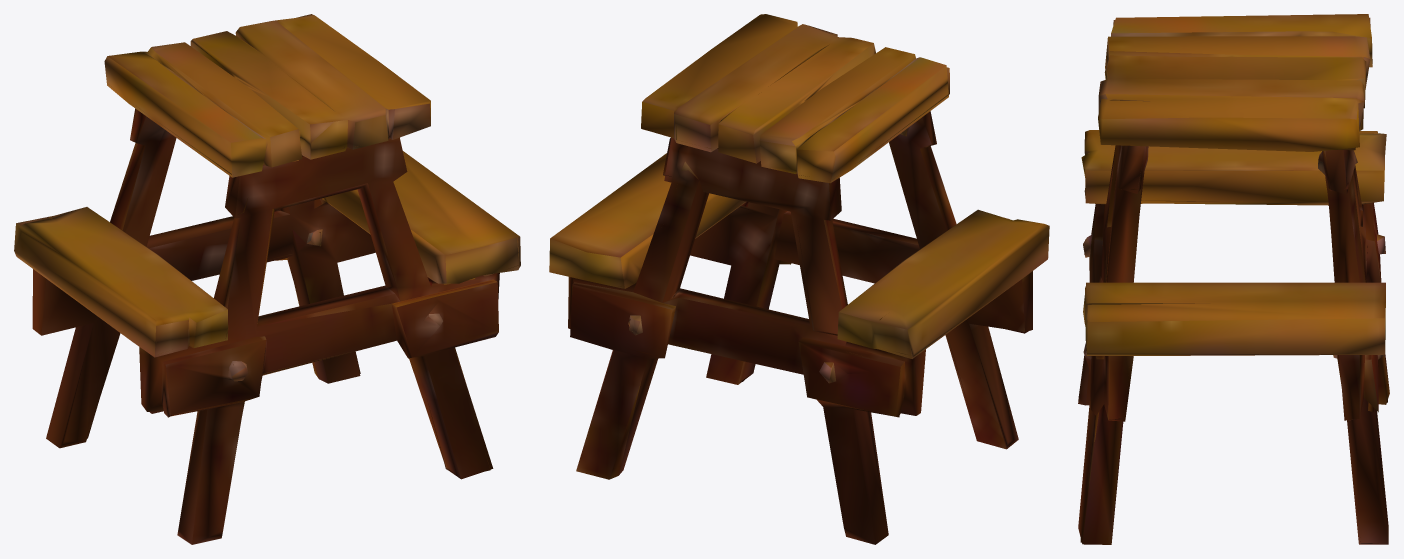
The model's file is picnic_table.glb.
3 renders of one model, left to right at view 1: azimuth 30°, elevation 25°; view 2: azimuth 150°, elevation 25°; view 3: azimuth 270°, elevation 25°, orthographic. The views are drawn at different scales.
Size of the model in its own units: 0.9993 by 0.9781 by 0.6869.
Materials: 1 (1 with a texture image).
